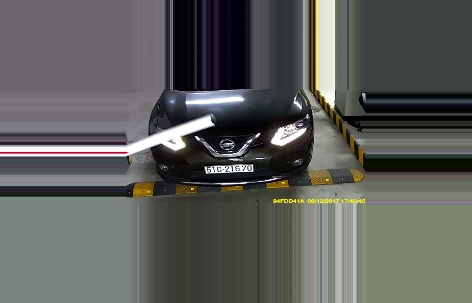plate: (203, 160, 253, 172)
